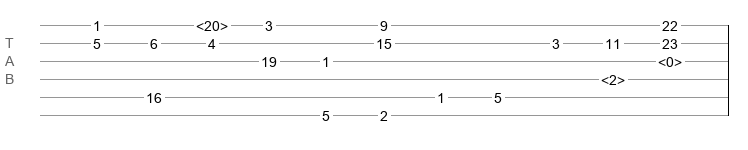1: (93, 18, 101, 28), (322, 54, 330, 64), (437, 90, 445, 100)
11: (605, 36, 621, 46)
15: (376, 36, 392, 46)
16: (146, 90, 162, 100)
19: (261, 54, 277, 64)
2: (380, 108, 388, 118)
22: (662, 18, 678, 28)
23: (662, 36, 678, 46)
3: (265, 18, 273, 28), (552, 36, 560, 46)
4: (208, 36, 216, 46)
5: (93, 36, 101, 46), (322, 108, 330, 118), (494, 90, 502, 100)
6: (150, 36, 158, 46)
9: (380, 18, 388, 28)
harmonic: (196, 18, 228, 28), (601, 72, 625, 82), (658, 54, 682, 64)
